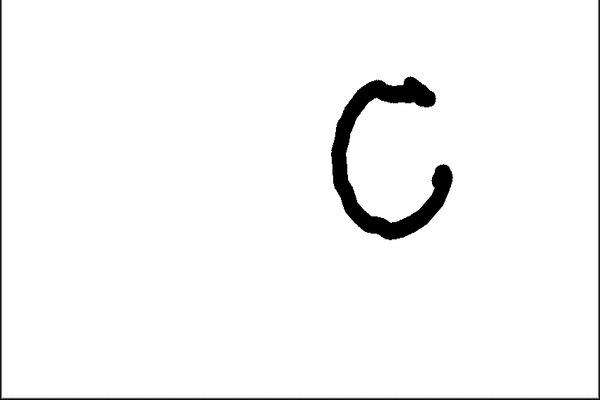C: (326, 71, 455, 243)
